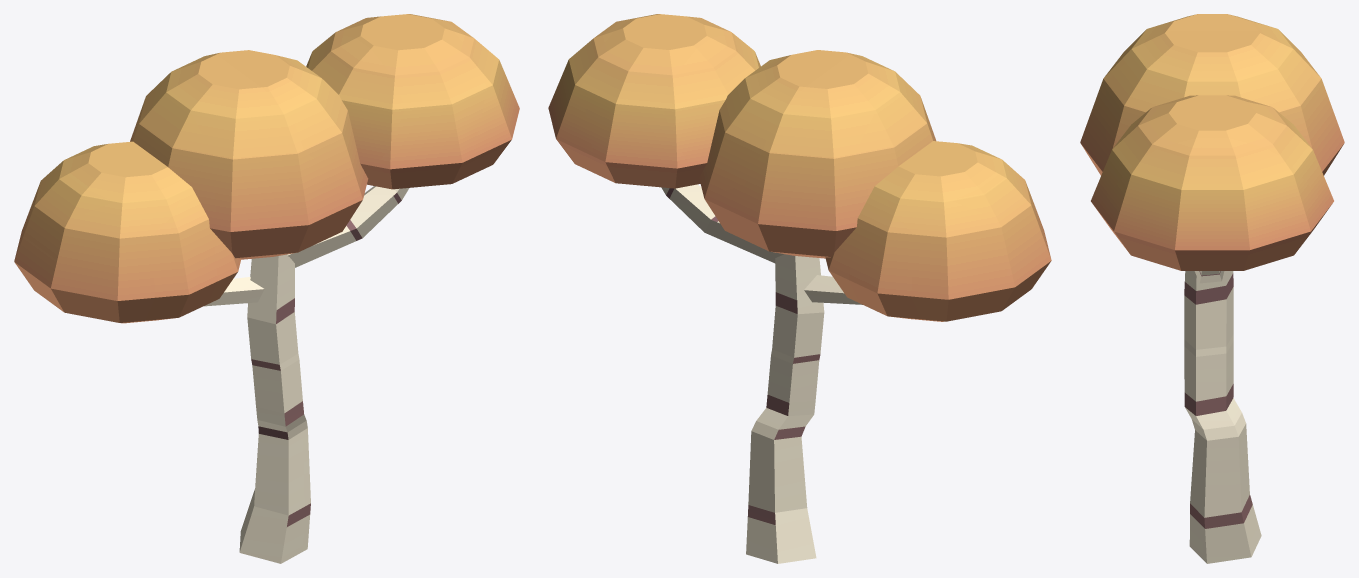
Rendered from smallbirch001.obj.
3 views of the same model, side by side, from view 1: azimuth 30°, elevation 25°; view 2: azimuth 150°, elevation 25°; view 3: azimuth 270°, elevation 25° (orthographic). The views are drawn at different scales.
Visible parts, largest first — view 1: small_birch.001; view 2: small_birch.001; view 3: small_birch.001.
Boxes of the visible parts, left/top/right/bottom form: small_birch.001: left=14, top=14, right=519, bottom=563; small_birch.001: left=548, top=14, right=1051, bottom=563; small_birch.001: left=1080, top=14, right=1344, bottom=563.
Bounding box in the file's own units: 9.7 × 9.73 × 4.66.
Materials: 1 (1 with a texture image).
